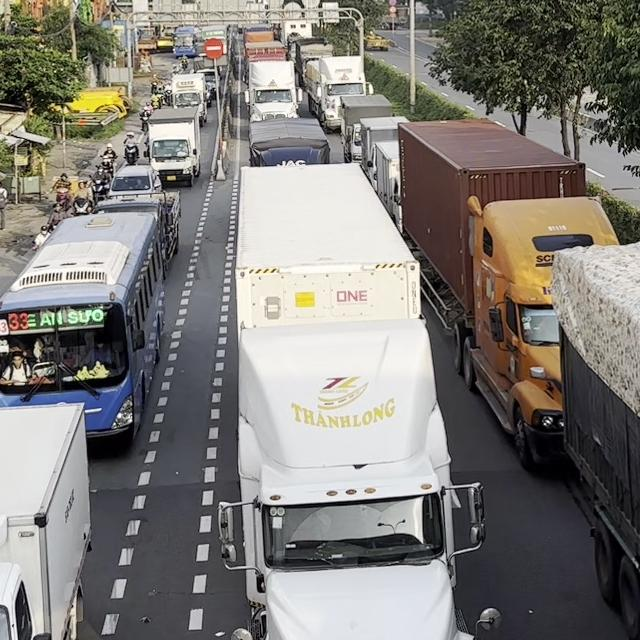bus: (0, 211, 166, 444)
motorcycle: (123, 141, 138, 165), (138, 108, 150, 131)
truck: (217, 161, 488, 639), (397, 119, 621, 469), (549, 238, 639, 639), (0, 400, 92, 639), (91, 188, 181, 269), (302, 54, 374, 132), (143, 105, 201, 186), (248, 116, 331, 166), (338, 93, 393, 162), (244, 59, 301, 123), (170, 72, 208, 126)
